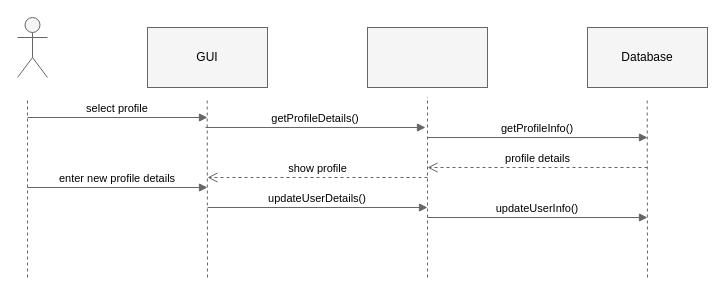
Image size: 725x296. Some labels were removed from this diagram. The shapes that lost their labels are listed below. From the top down, each one's centre as x and y in pixels, then its label:
At [32,47]: "User".
At [427,57]: "User Manager".
